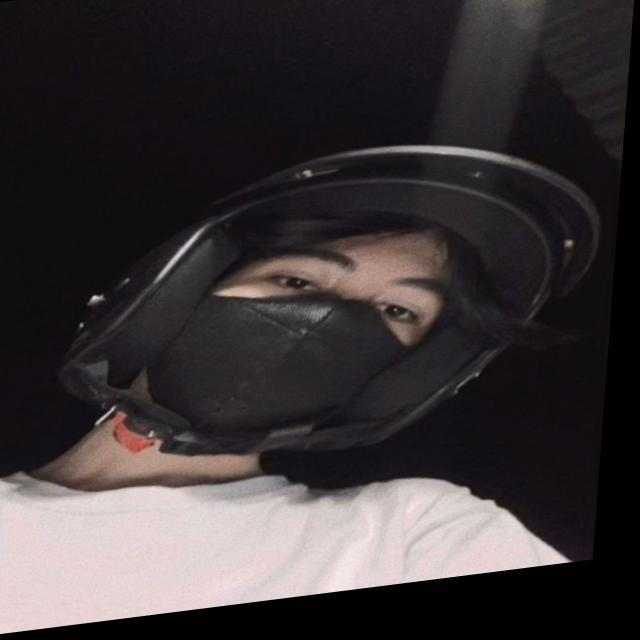Helmet: (53, 119, 609, 476)
